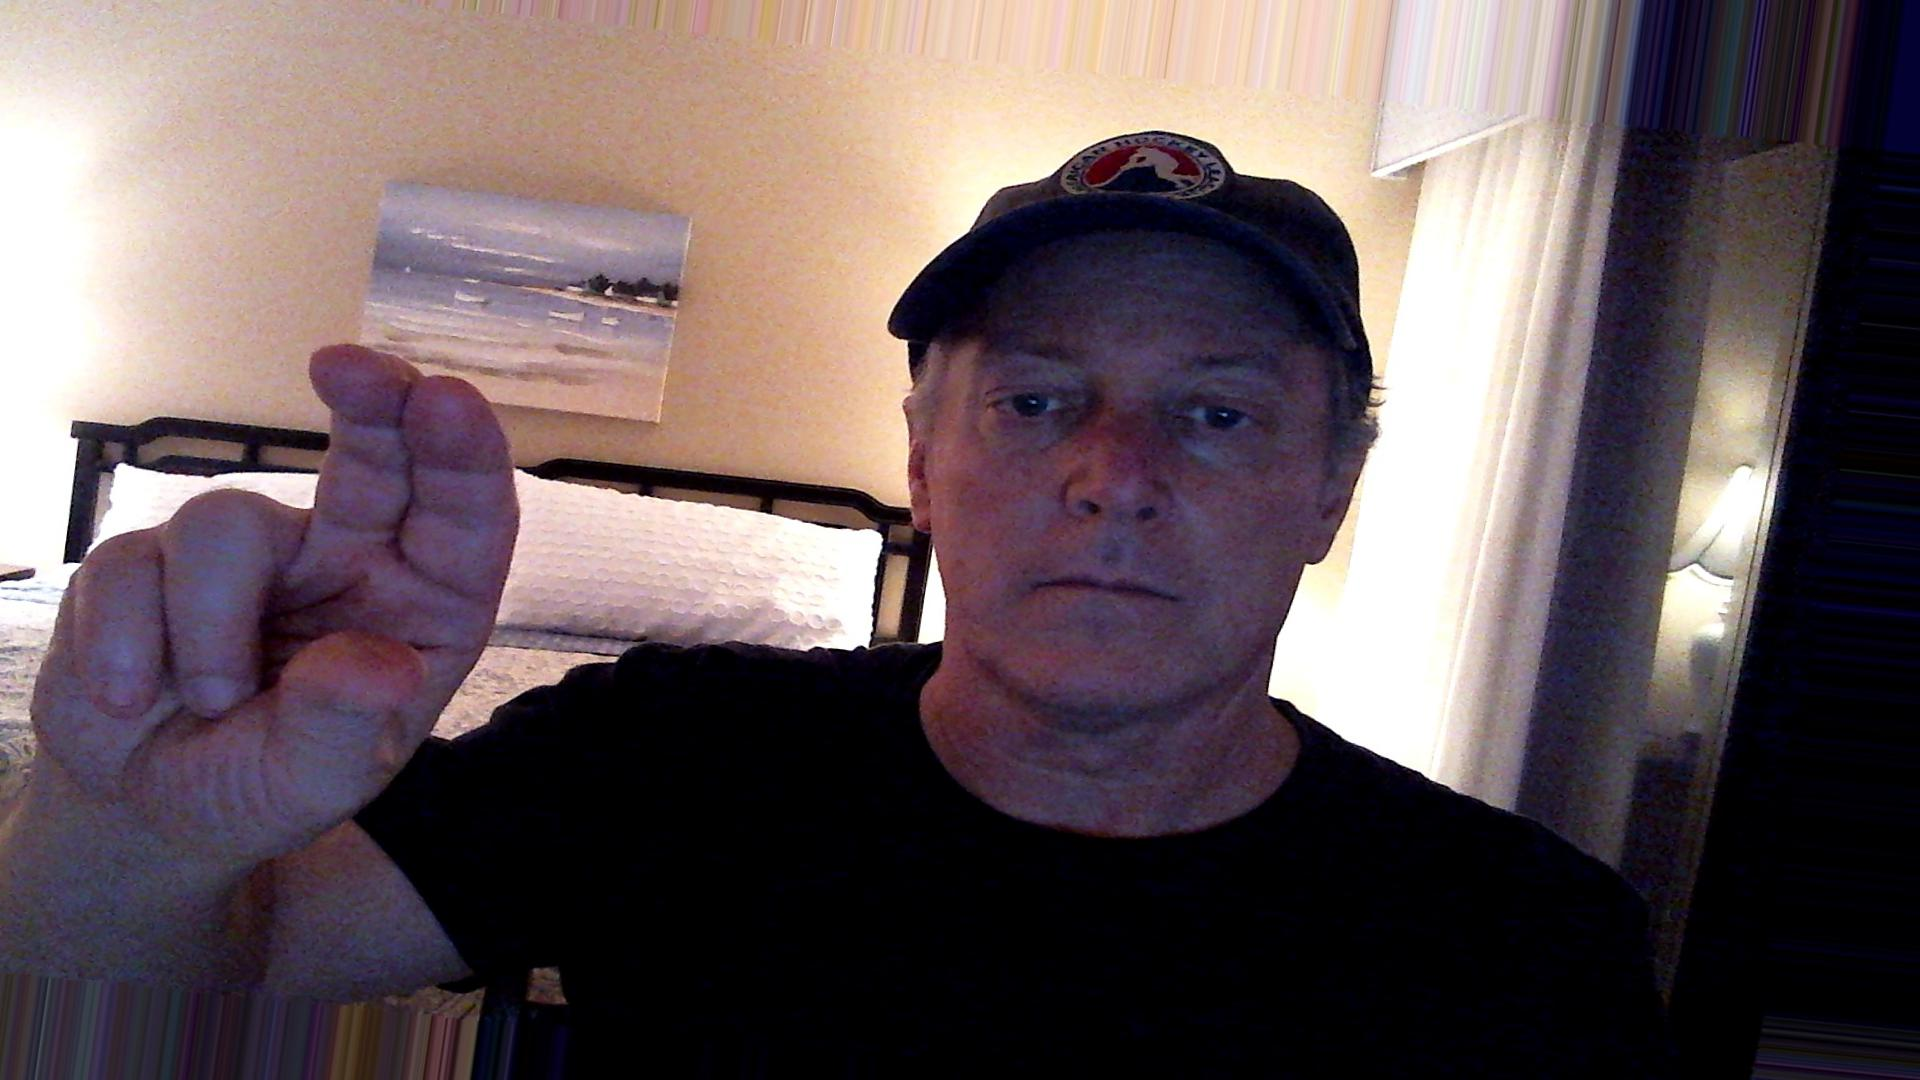No: (13, 334, 547, 860)
